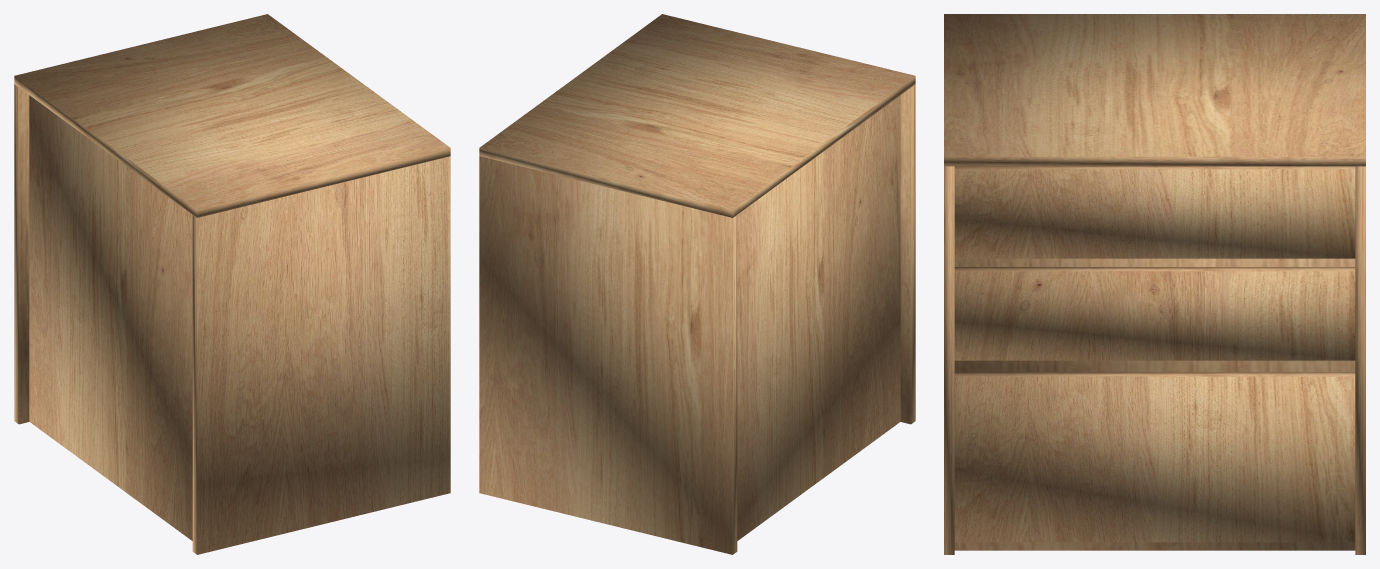
File: dresser-better-textures.glb
3 views of the same model, side by side, from view 1: azimuth 30°, elevation 25°; view 2: azimuth 150°, elevation 25°; view 3: azimuth 270°, elevation 25° (orthographic). The views are drawn at different scales.
Parts seen in each view (by area): view 1: Cube.003, Cube.002, Cube.004, Cube; view 2: Cube, Cube.002, Cube.004, Cube.003; view 3: Cube.001, Cube.004, Cube.006, Cube.005, Cube.002, Cube, Cube.003.
Part boxes in pixels (bbox=[...]): Cube.003: bbox=[192, 156, 450, 554]; Cube.002: bbox=[29, 95, 192, 540]; Cube.004: bbox=[14, 14, 450, 217]; Cube: bbox=[14, 84, 29, 424]; Cube: bbox=[479, 156, 737, 554]; Cube.002: bbox=[737, 95, 900, 540]; Cube.004: bbox=[479, 14, 915, 217]; Cube.003: bbox=[900, 84, 915, 424]; Cube.001: bbox=[954, 372, 1355, 542]; Cube.004: bbox=[944, 14, 1365, 166]; Cube.006: bbox=[954, 267, 1355, 360]; Cube.005: bbox=[954, 166, 1355, 258]; Cube.002: bbox=[954, 258, 1355, 550]; Cube: bbox=[1355, 166, 1365, 554]; Cube.003: bbox=[944, 166, 954, 554].
Bounding box in the file's own units: 24 × 31.25 × 30.
Materials: 7 (7 with a texture image).
